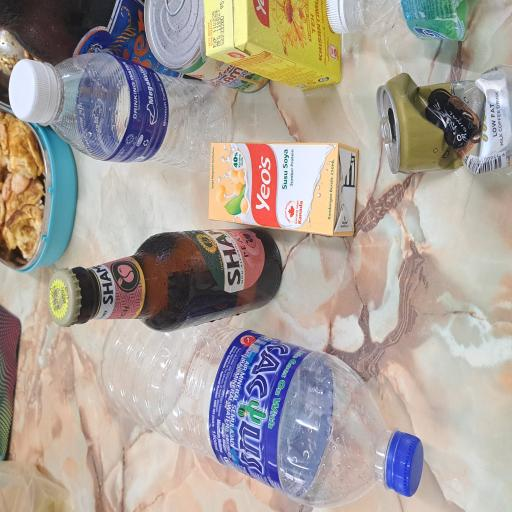can: (315, 198, 384, 352)
drink carton: (210, 280, 278, 480), (322, 268, 384, 456)
glass bottle: (131, 67, 211, 377), (314, 0, 384, 267)
plastic bottle: (0, 139, 146, 512), (263, 72, 350, 304), (346, 467, 384, 512)
plastic bottle cap: (293, 12, 342, 73), (357, 434, 384, 458)
pop tab: (276, 496, 294, 512)
